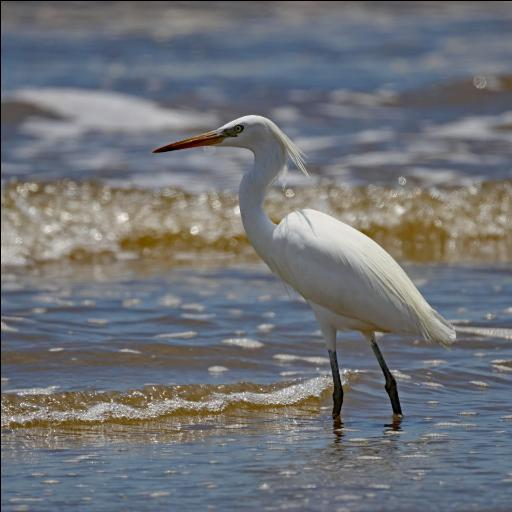chinese_egret: (150, 112, 458, 416)
